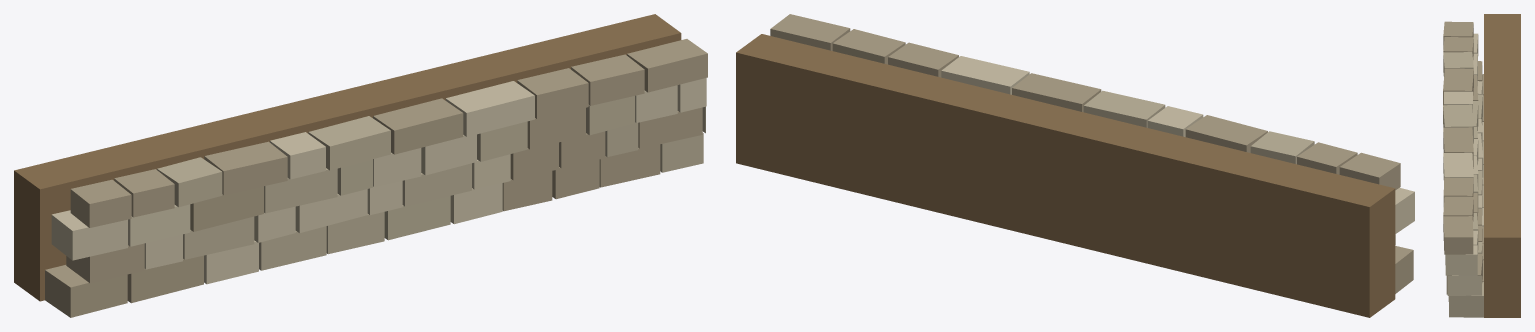
The model's file is a21_terrace_wall.glb.
3 views of the same model, side by side, from view 1: azimuth 30°, elevation 25°; view 2: azimuth 150°, elevation 25°; view 3: azimuth 270°, elevation 25° (orthographic). The views are drawn at different scales.
Visible parts, largest first — view 1: body; view 2: body; view 3: body.
Part boxes in pixels (bbox=[...]): body: bbox=[14, 14, 707, 317]; body: bbox=[736, 14, 1414, 317]; body: bbox=[1443, 14, 1520, 317].
Bounding box in the file's own units: 1 × 0.1671 × 0.1473.
